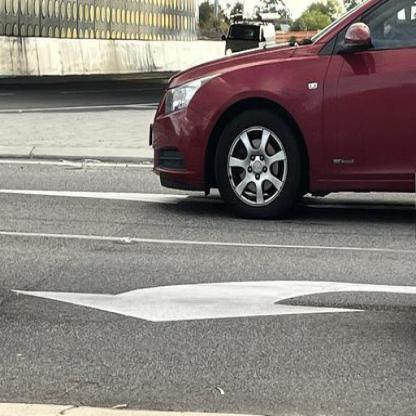Tire: (214, 107, 302, 219)
